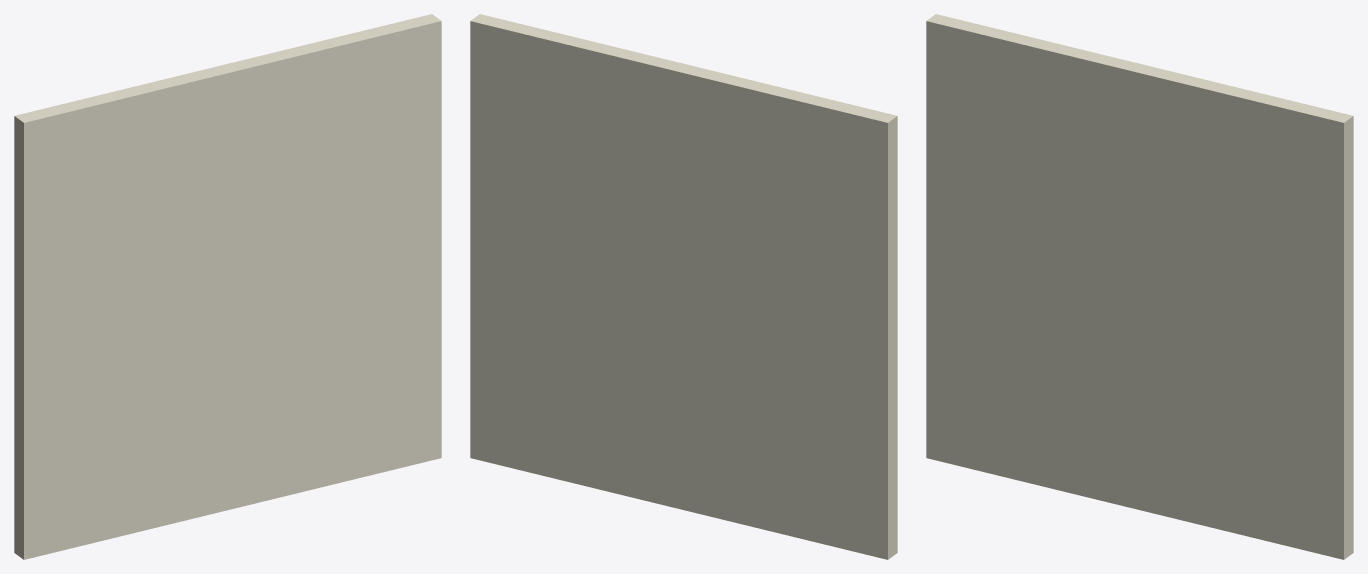
The model's file is Wall_500x500.glb.
The picture shows the model from 3 angles, left to right: view 1: azimuth 30°, elevation 25°; view 2: azimuth 150°, elevation 25°; view 3: azimuth 330°, elevation 25°; orthographic projection.
Parts seen in each view (by area): view 1: Wall_500x500; view 2: Wall_500x500; view 3: Wall_500x500.
Part boxes in pixels (x1=…): Wall_500x500: x1=14, y1=14, x2=441, y2=559; Wall_500x500: x1=470, y1=14, x2=897, y2=559; Wall_500x500: x1=926, y1=14, x2=1353, y2=559.
Bounding box in the file's own units: 5 × 5 × 0.2.
